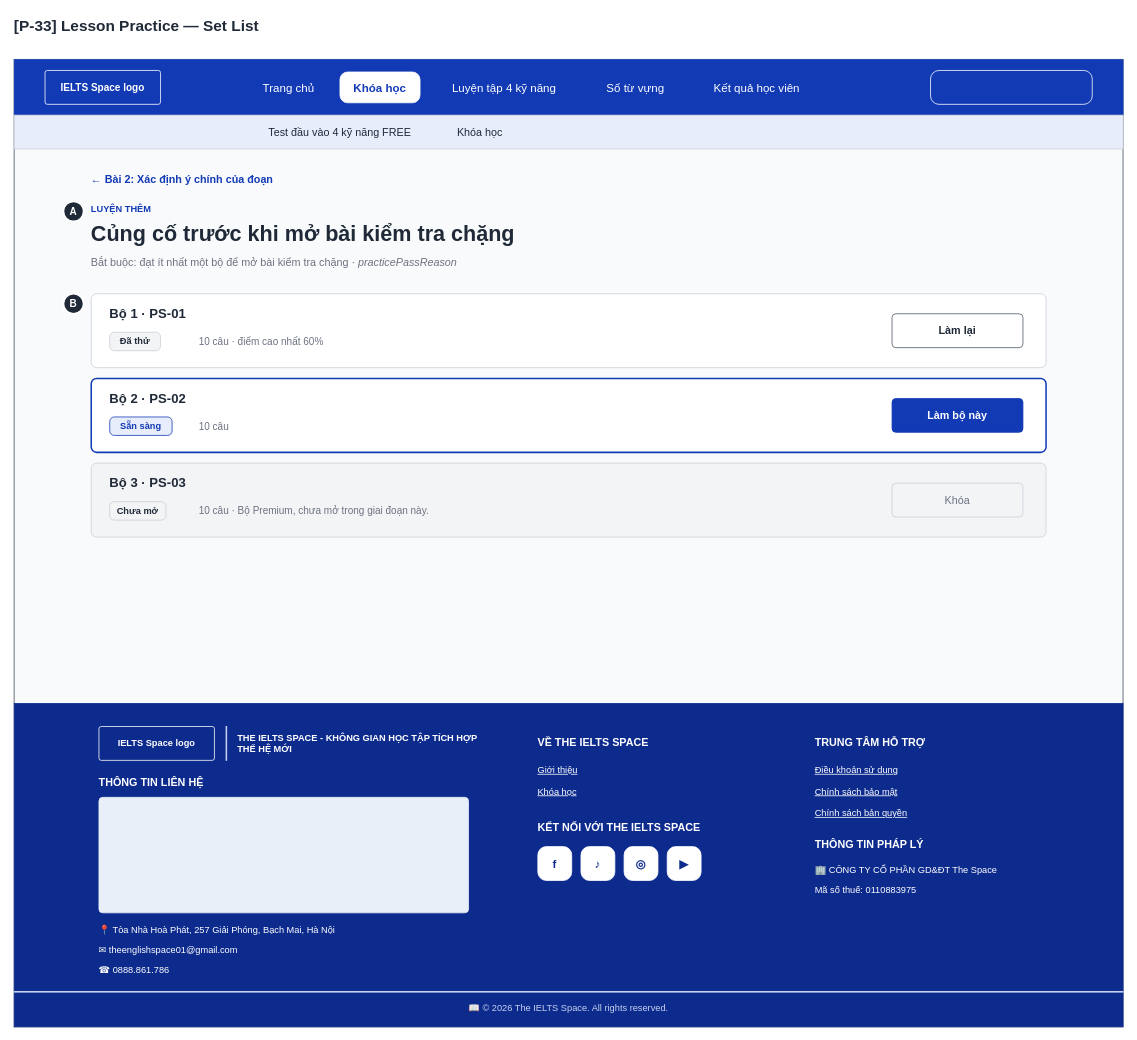
This 1137x1040 diagram has some shape labels left out. The shapes that lost their labels are listed below. From the top down, each one's box as (x1, y1, x2, y2) in pixels, then its label:
(930, 70, 1092, 104): ◯ Học viên · 30 Points ▾
(98, 797, 469, 913): 📍 The IELTS Space Mở trong Maps ↗
